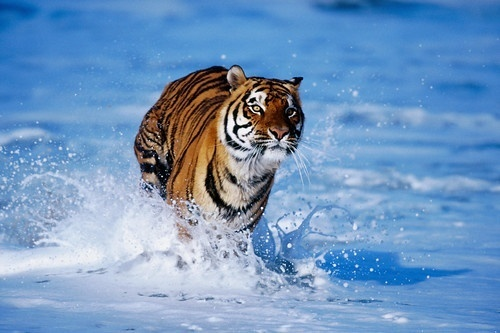tigre: (134, 66, 307, 255)
